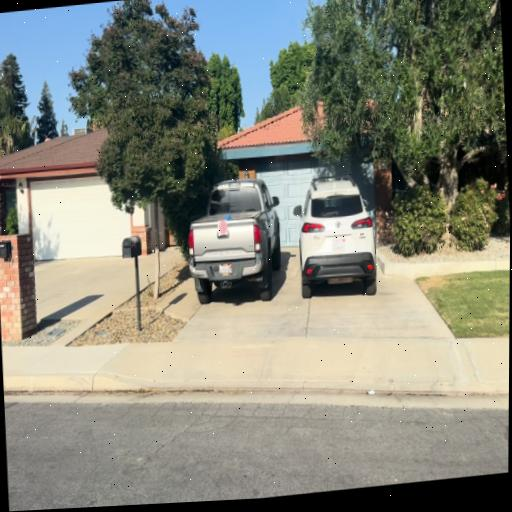bullseye: (218, 220, 228, 235)
